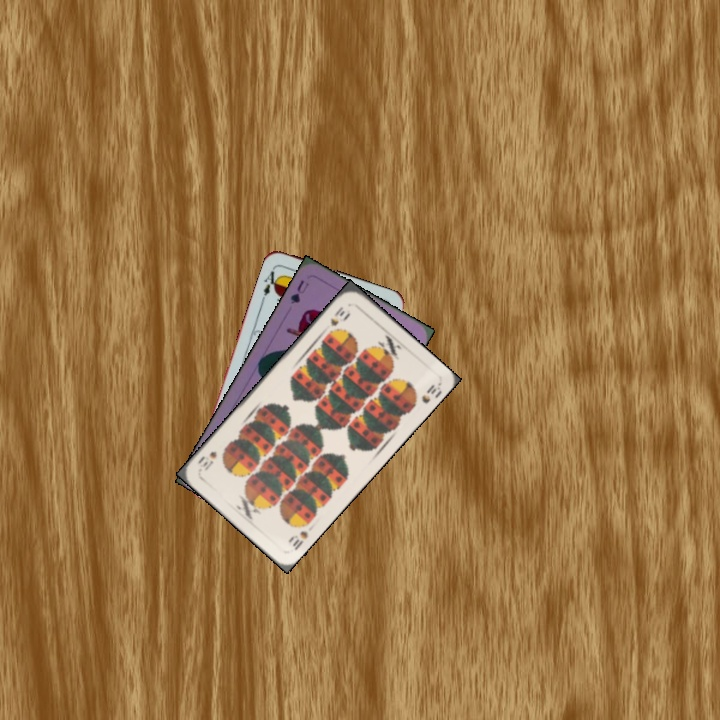EA: (258, 267, 282, 303)
GU: (286, 276, 311, 307)
S10: (284, 526, 311, 553), (326, 302, 352, 329)
